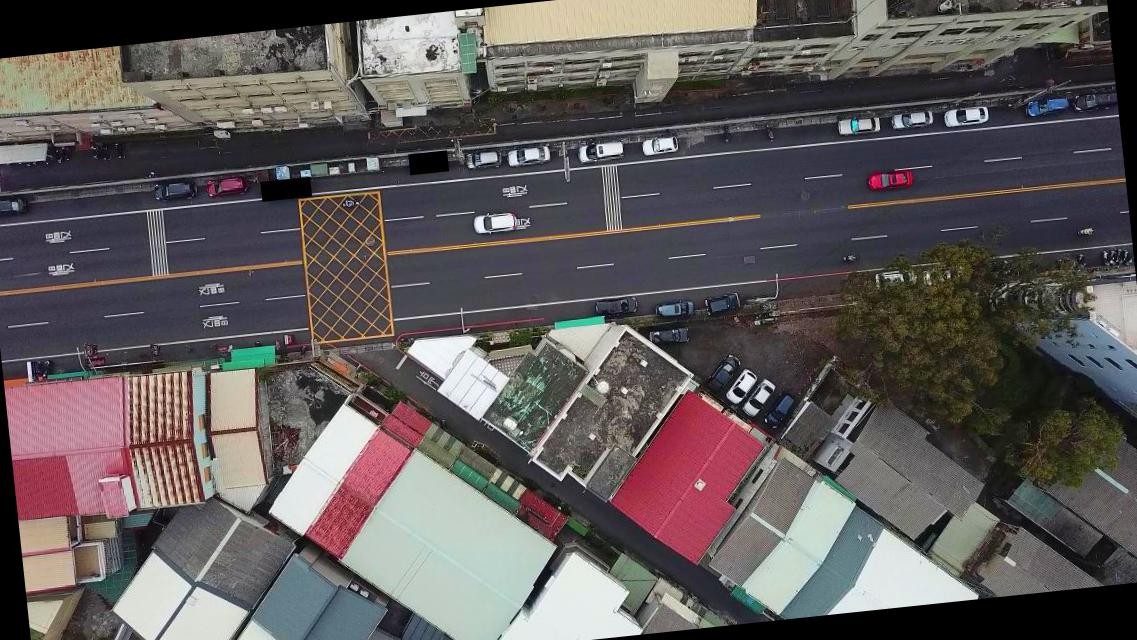vehicle: (740, 376, 778, 419), (760, 390, 800, 429), (704, 354, 742, 394), (724, 366, 760, 404), (472, 208, 520, 236), (576, 138, 626, 164), (866, 168, 915, 194), (1071, 89, 1117, 115), (506, 143, 552, 168), (1023, 96, 1070, 120), (943, 104, 990, 128), (647, 323, 694, 347), (594, 294, 640, 318), (153, 178, 199, 202), (204, 174, 249, 197), (640, 134, 682, 158), (888, 107, 934, 128), (836, 115, 882, 136), (872, 268, 918, 288), (701, 291, 741, 314), (464, 149, 502, 173), (656, 298, 698, 318), (0, 193, 30, 220)
